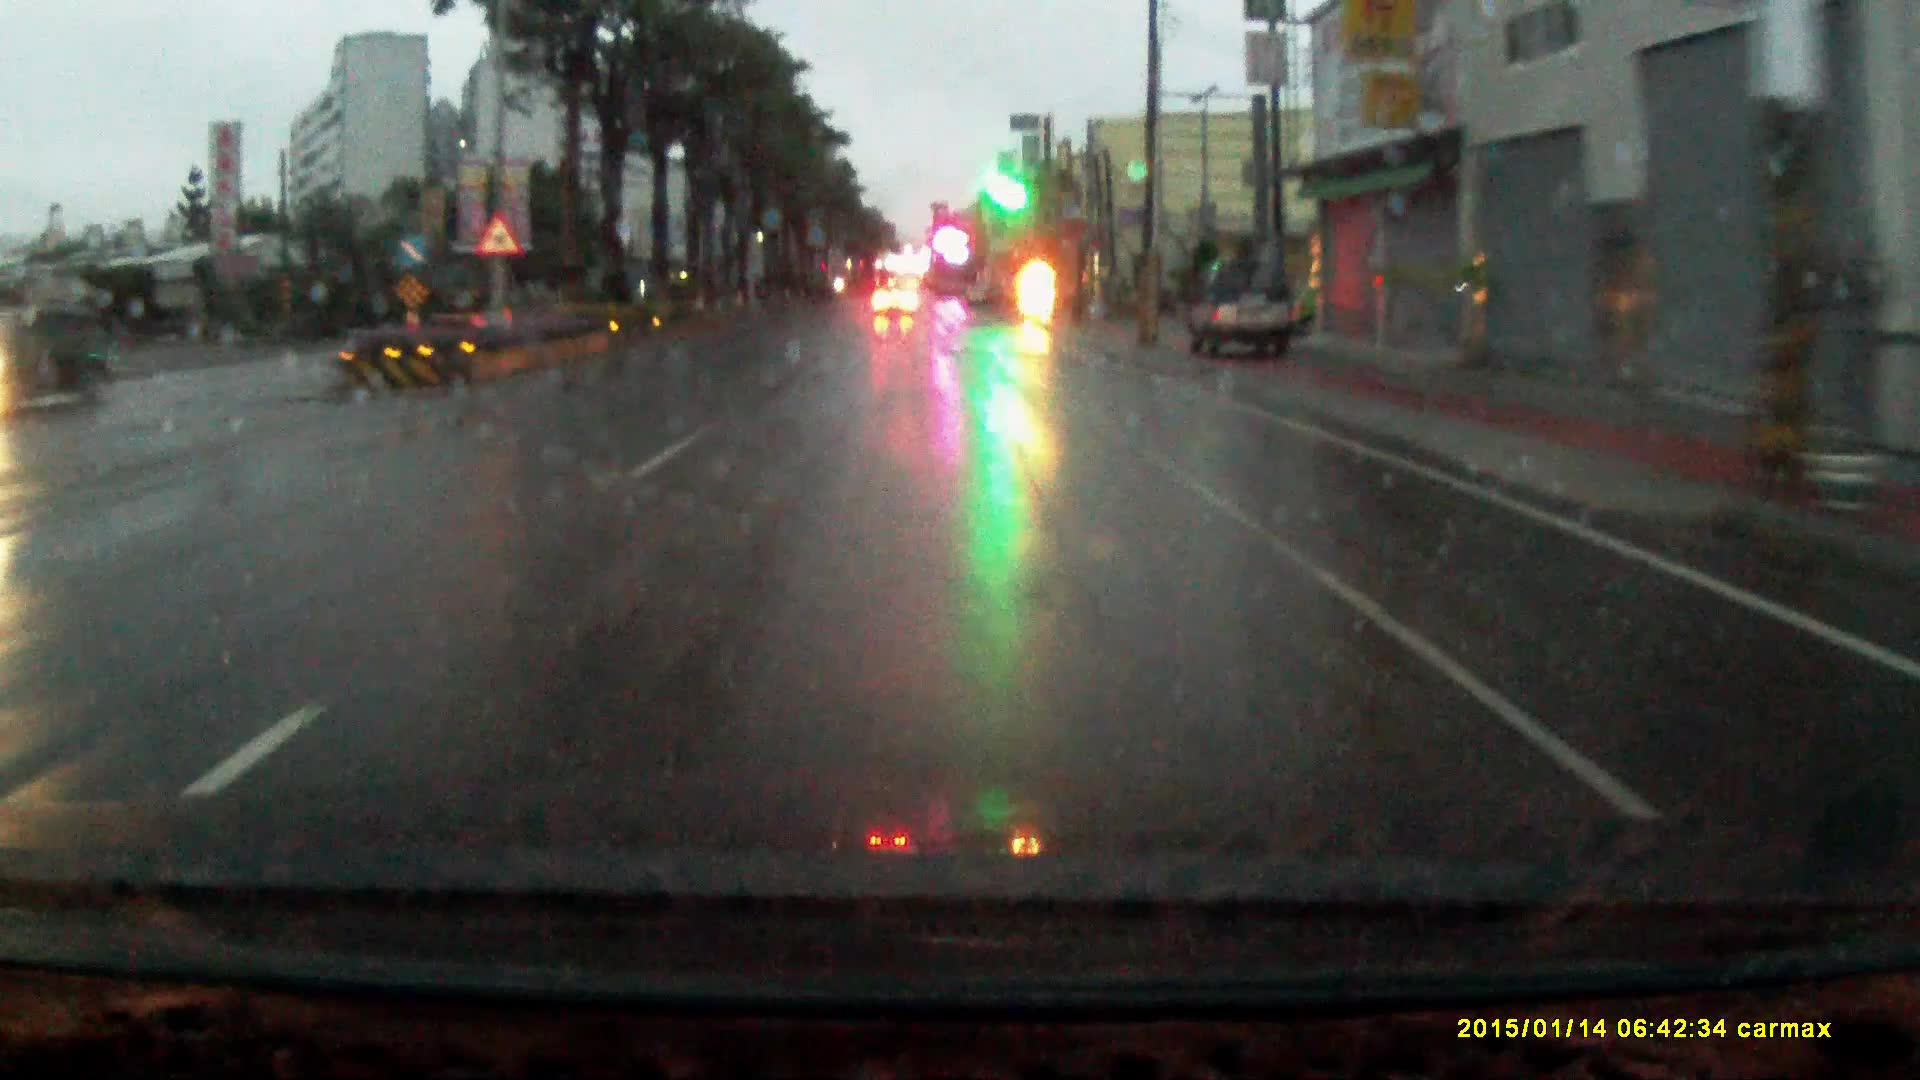vehicle: (1, 309, 125, 418), (1183, 258, 1303, 367), (872, 286, 918, 320)
